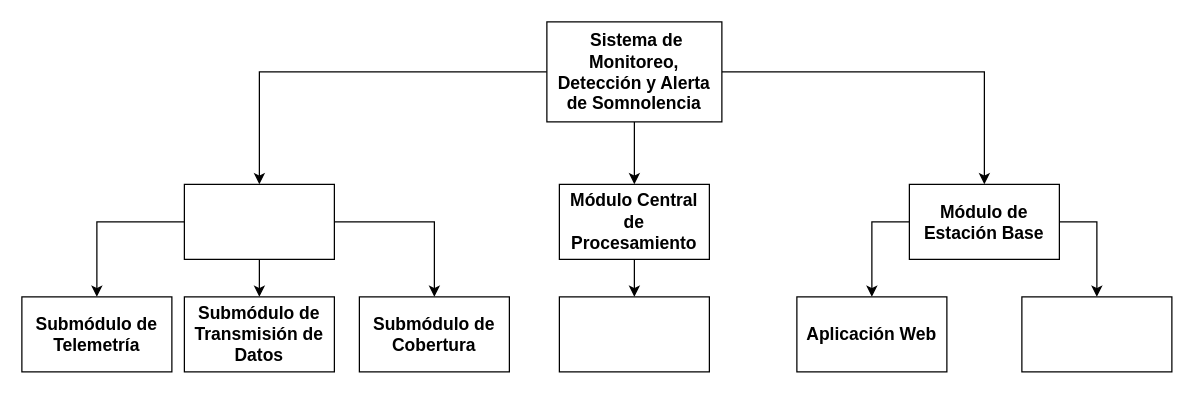
This 1194x404 diagram has some shape labels left out. Here are the shapes that lost their labels. From the top down, the centre of each, then its label:
At pixel 258 221: "Módulo de Comunicaciones".
At pixel 633 334: "Submódulo de Visión Artificial".
At pixel 1096 334: "Base de Datos".
